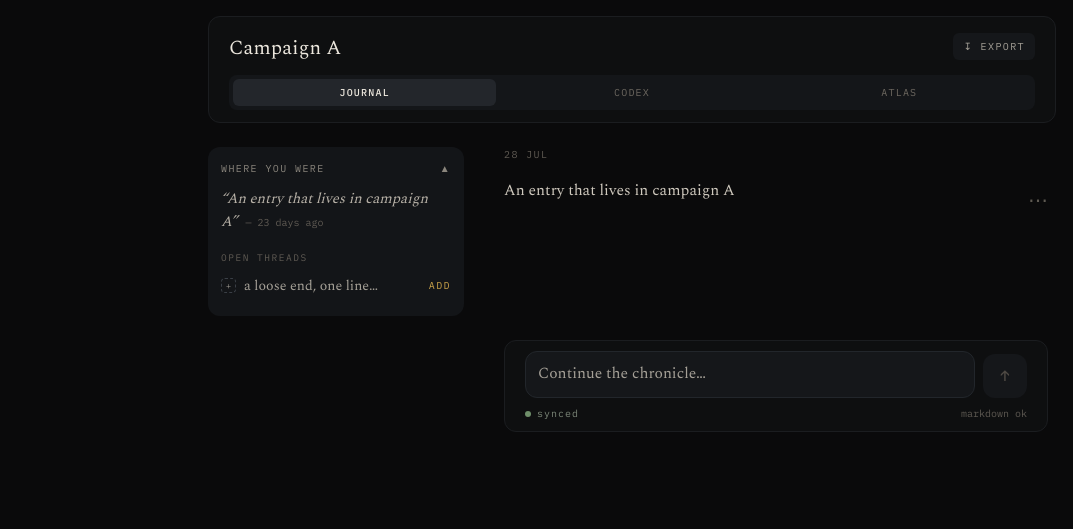
it: Campaign selection and creation panel › creating a campaign selects it immediately
Click the button "Campaign A" at (285, 48), box [229, 33, 341, 63]
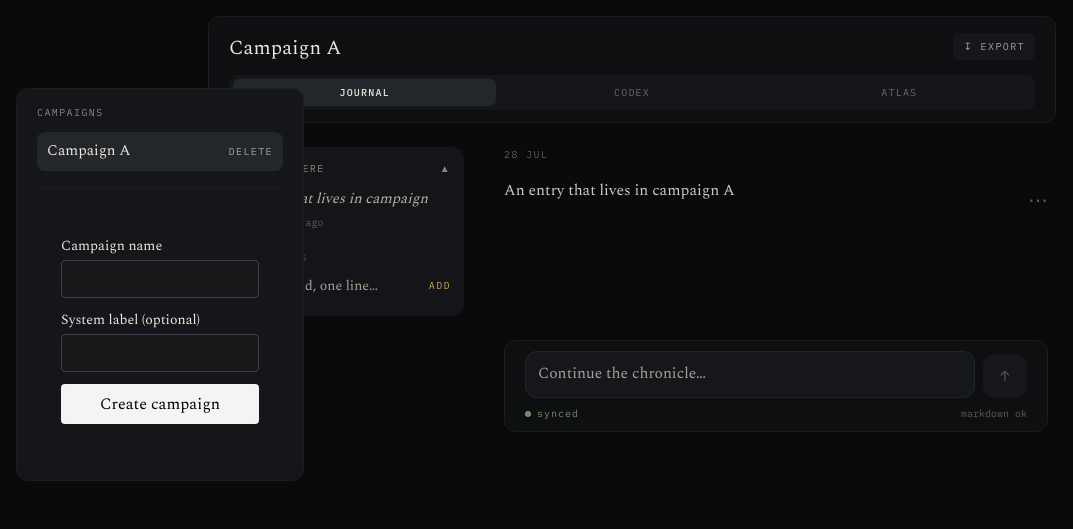
Type "New Campaign" into the field labelled "Campaign name" at (160, 278), box [61, 260, 259, 298]
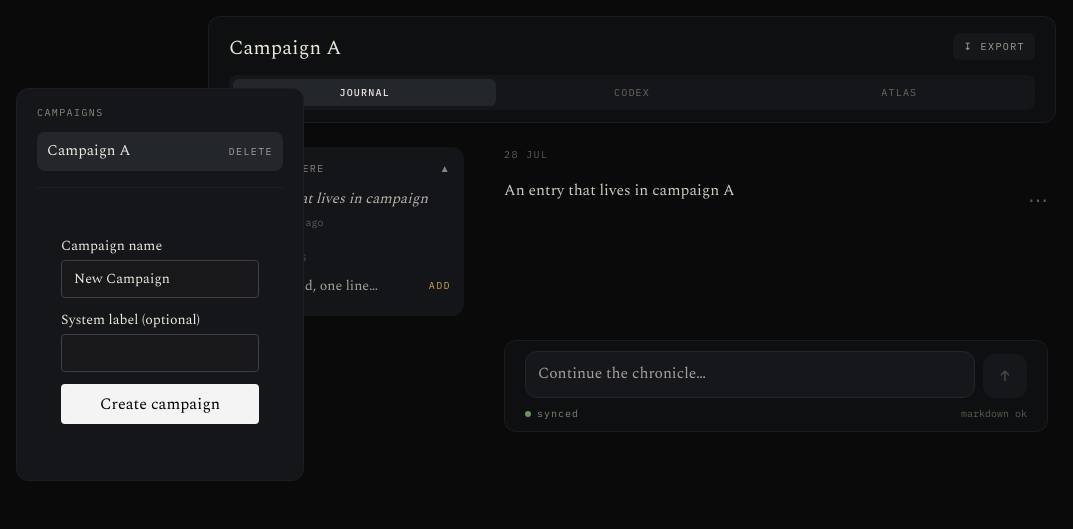
Click the button "Create campaign" at (160, 404), box [61, 384, 259, 424]
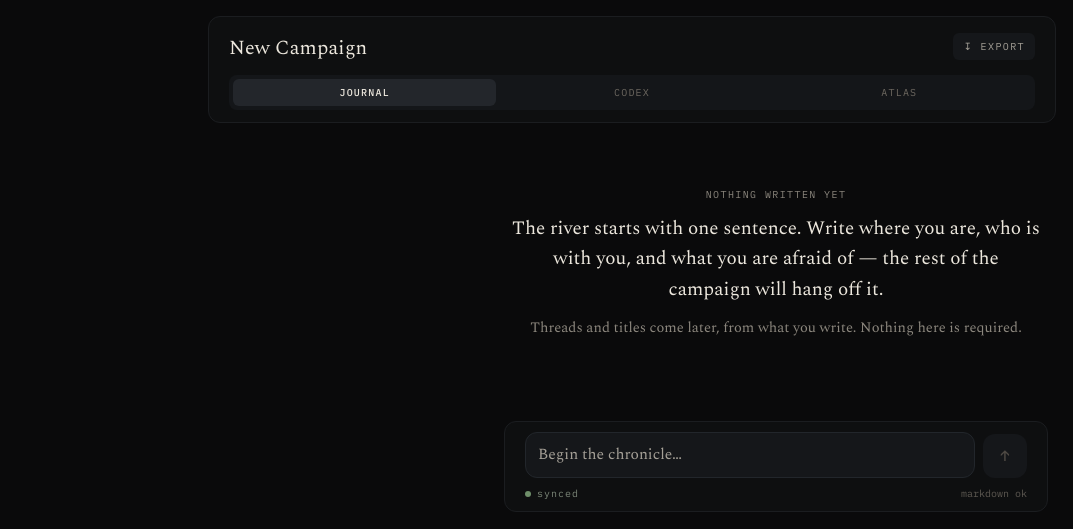
Expected: the text "Nothing written yet" is shown, [706, 187, 846, 202]
